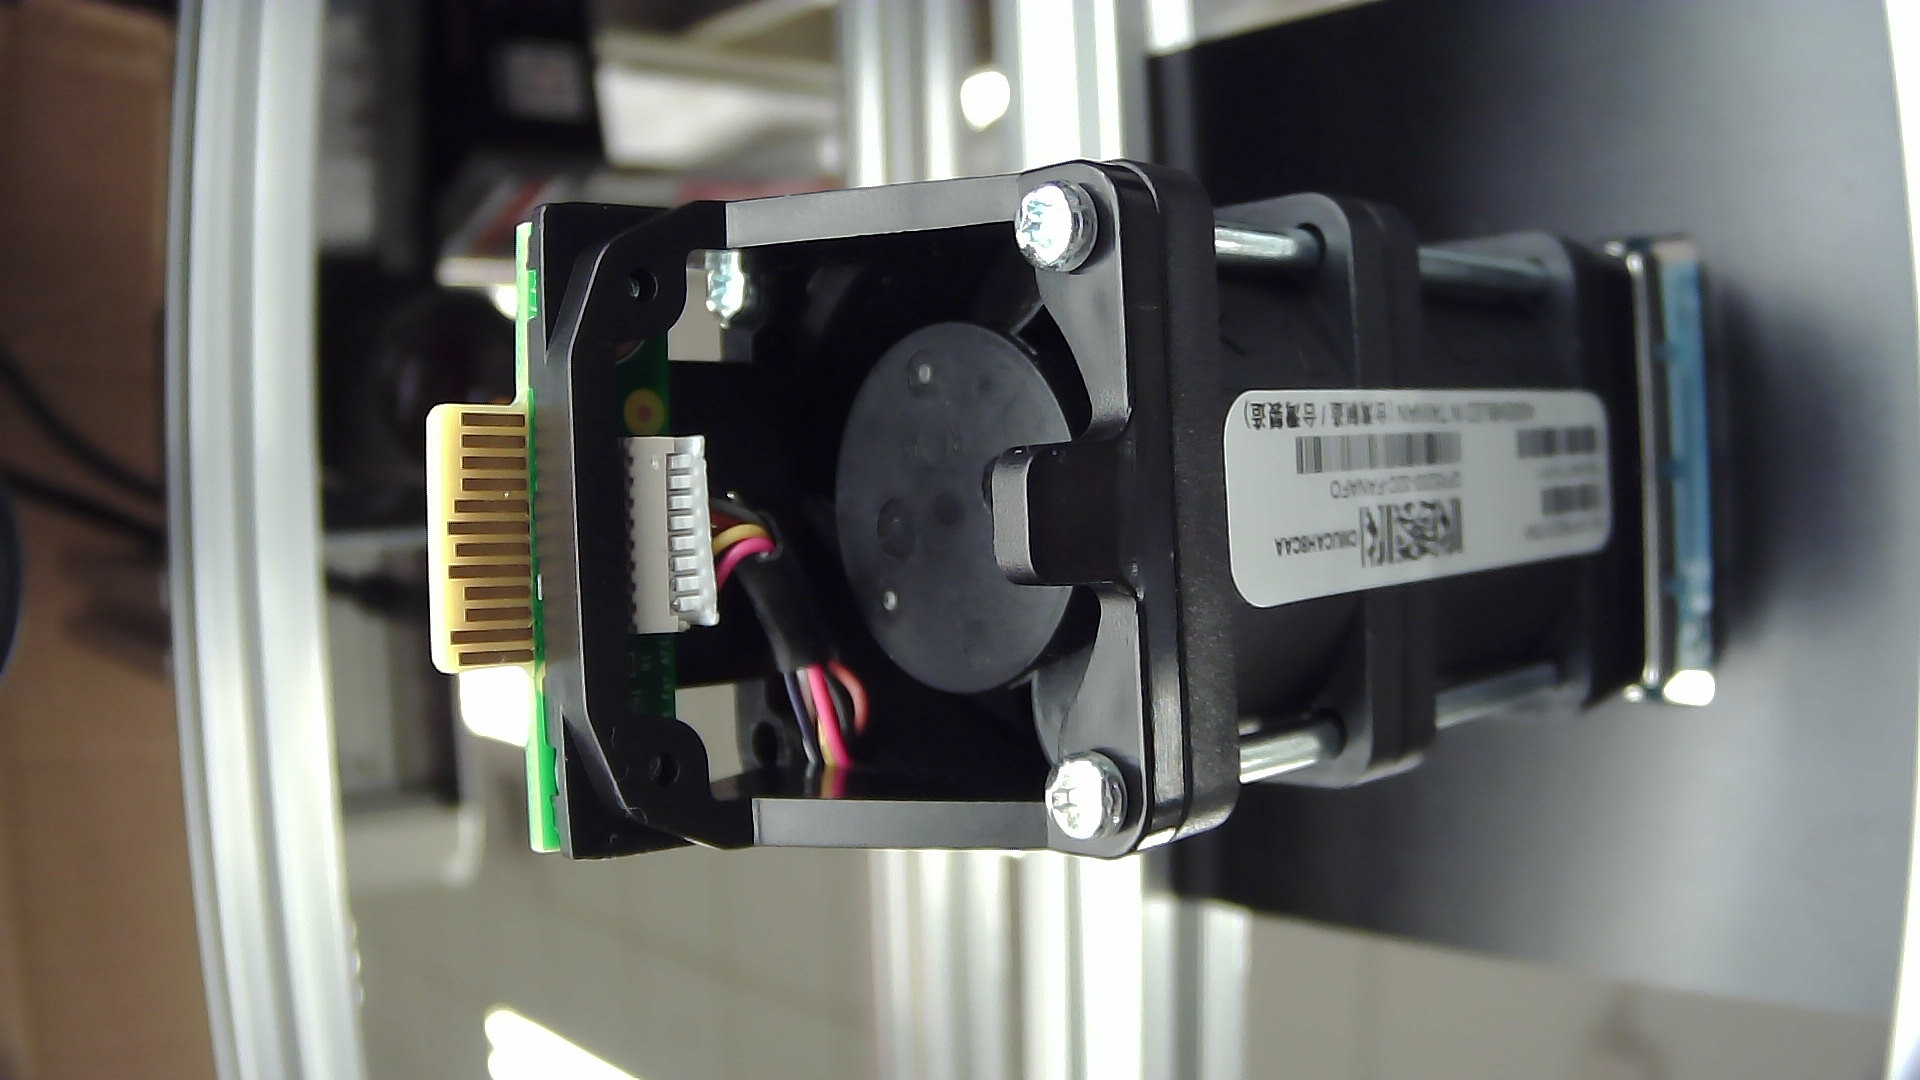8_2: (650, 439, 690, 632)
